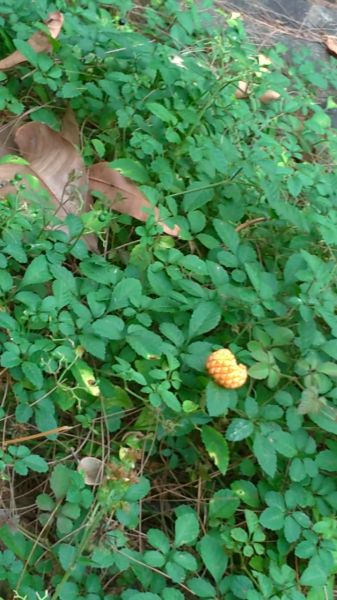eggs: (200, 345, 251, 397)
